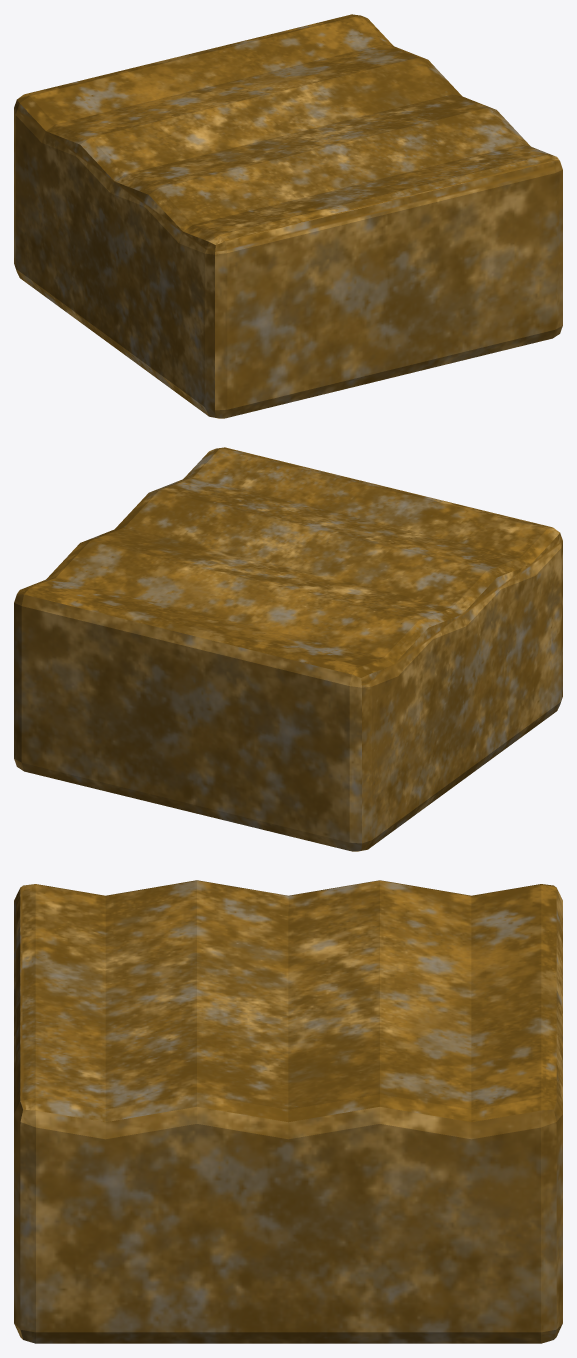
The model's file is plowed_block.glb.
3 views of the same model, one above another, from view 1: azimuth 30°, elevation 25°; view 2: azimuth 150°, elevation 25°; view 3: azimuth 270°, elevation 25° (orthographic). The views are drawn at different scales.
Parts seen in each view (by area): view 1: Plowed_block; view 2: Plowed_block; view 3: Plowed_block.
Boxes of the visible parts, bbox=[...] form: Plowed_block: bbox=[14, 14, 562, 418]; Plowed_block: bbox=[14, 447, 562, 851]; Plowed_block: bbox=[14, 880, 562, 1343].
Size of the model in its own units: 1 by 0.5 by 1.
Materials: 1 (1 with a texture image).
